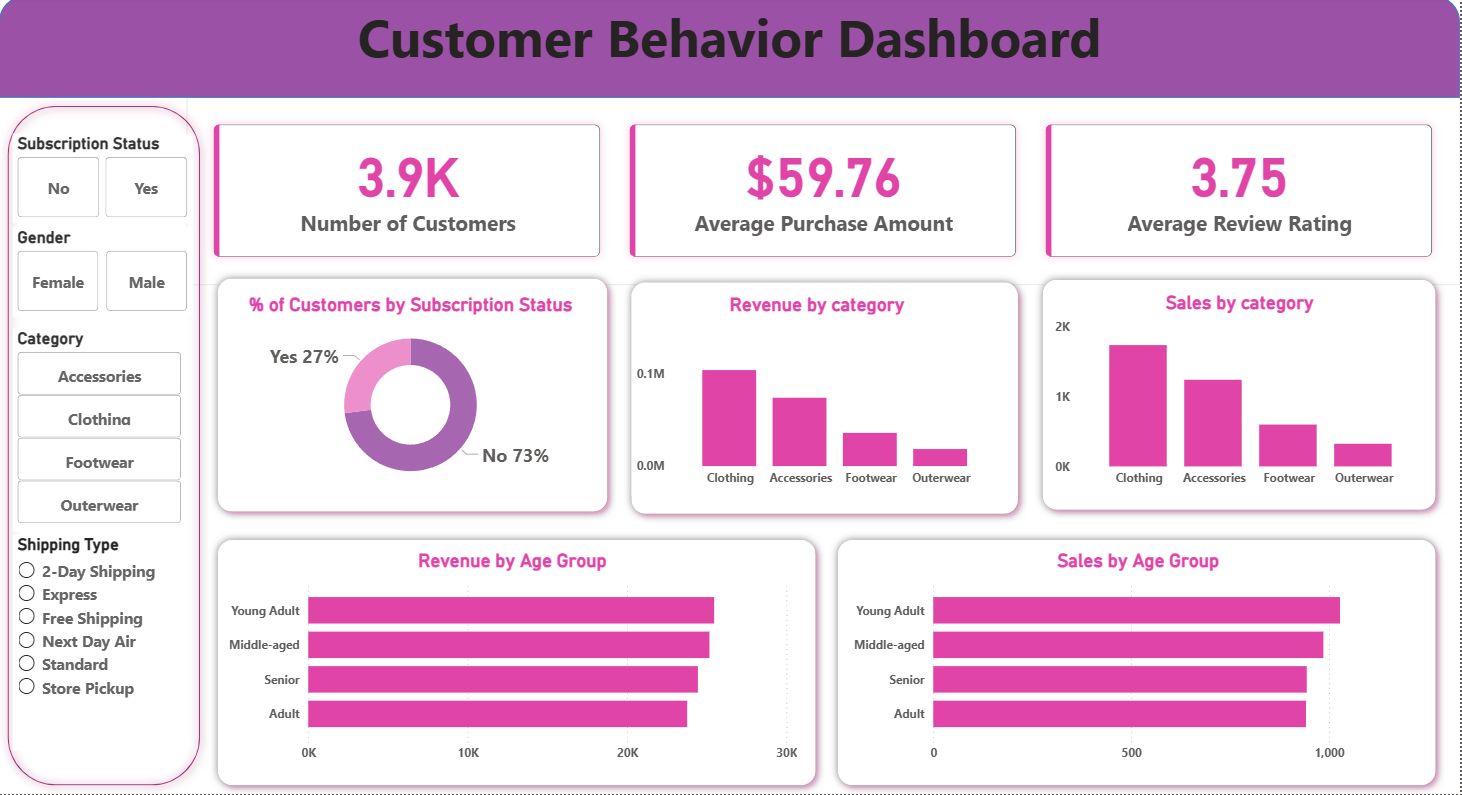

What the dashboard file says about the page in this screenshot:
{"tool":"powerbi","page":{"name":"Page 1","canvas":[1500,820],"ordinal":0},"visuals":[{"type":"cardVisual","fields":{"Data":["public customer.Number of Customers","public customer.Average Purchase Amount","public customer.Average Review Rating"]},"box":[193,104.5,1307.4,193],"z":0},{"type":"shape","box":[0,0,1500.3,104.5],"z":1000},{"type":"textbox","box":[0,0,1500.3,104.5],"z":2000},{"type":"shape","box":[215.5,281.4,418.1,257.3],"z":3000},{"type":"donutChart","title":"% of Customers by Subscription Status","fields":{"Category":["public customer.subscription_status"],"Y":["CountNonNull(public customer.customer_id)"]},"box":[230,305.5,385.9,207.4],"z":4000},{"type":"shape","box":[640,284.6,414.9,255.7],"z":5000},{"type":"shape","box":[1062.9,283,421.3,254.1],"z":6000},{"type":"clusteredColumnChart","title":"Revenue by category","fields":{"Y":["Sum(public customer.purchase_amount)"],"Category":["public customer.category"]},"box":[649.7,305.5,381.1,207.4],"z":7000},{"type":"clusteredColumnChart","title":"Sales by category","fields":{"Y":["CountNonNull(public customer.customer_id)"],"Category":["public customer.category"]},"box":[1079,303.9,389.2,209],"z":8000},{"type":"shape","box":[0,104.5,215.5,715.6],"z":9000},{"type":"advancedSlicerVisual","title":"Subscription Status","fields":{"Values":["public customer.subscription_status"]},"box":[14.5,141.5,184.9,91.7],"z":10000},{"type":"advancedSlicerVisual","title":"Gender","fields":{"Values":["public customer.gender"]},"box":[14.5,238,184.9,91.7],"z":11000},{"type":"advancedSlicerVisual","title":"Category","fields":{"Values":["public customer.category"]},"box":[14.5,340.9,178.5,209],"z":12000},{"type":"listSlicer","title":"Shipping Type","fields":{"Values":["public customer.shipping_type"]},"box":[14.5,553.2,178.5,221.9],"z":13000},{"type":"shape","box":[215.5,550,632,270.2],"z":14000},{"type":"clusteredBarChart","title":"Revenue by Age Group","fields":{"Y":["Sum(public customer.previous_purchases)"],"Category":["public customer.age_group"]},"box":[230,569.3,595,226.7],"z":15000},{"type":"shape","box":[852.3,550,632,270.2],"z":16000},{"type":"clusteredBarChart","title":"Sales by Age Group","fields":{"Y":["CountNonNull(public customer.customer_id)"],"Category":["public customer.age_group"]},"box":[871.6,569.3,596.6,226.7],"z":17000}]}

Visuals, with their boxes in screenshot pixels (x1, y1, x2, y2), scaled from the page's 1500x820 canvas onto the 1462x795 screenshot:
cardVisual - public customer.Number of Customers x public customer.Average Purchase Amount: bbox(188, 101, 1461, 288)
shape: bbox(0, 0, 1461, 101)
textbox: bbox(0, 0, 1461, 101)
shape: bbox(210, 273, 618, 522)
"% of Customers by Subscription Status" donutChart: bbox(224, 296, 600, 497)
shape: bbox(624, 276, 1028, 524)
shape: bbox(1036, 274, 1447, 521)
"Revenue by category" clusteredColumnChart: bbox(633, 296, 1005, 497)
"Sales by category" clusteredColumnChart: bbox(1052, 295, 1431, 497)
shape: bbox(0, 101, 210, 794)
"Subscription Status" advancedSlicerVisual: bbox(14, 137, 194, 226)
"Gender" advancedSlicerVisual: bbox(14, 231, 194, 320)
"Category" advancedSlicerVisual: bbox(14, 331, 188, 533)
"Shipping Type" listSlicer: bbox(14, 536, 188, 751)
shape: bbox(210, 533, 826, 794)
"Revenue by Age Group" clusteredBarChart: bbox(224, 552, 804, 772)
shape: bbox(831, 533, 1447, 794)
"Sales by Age Group" clusteredBarChart: bbox(850, 552, 1431, 772)
